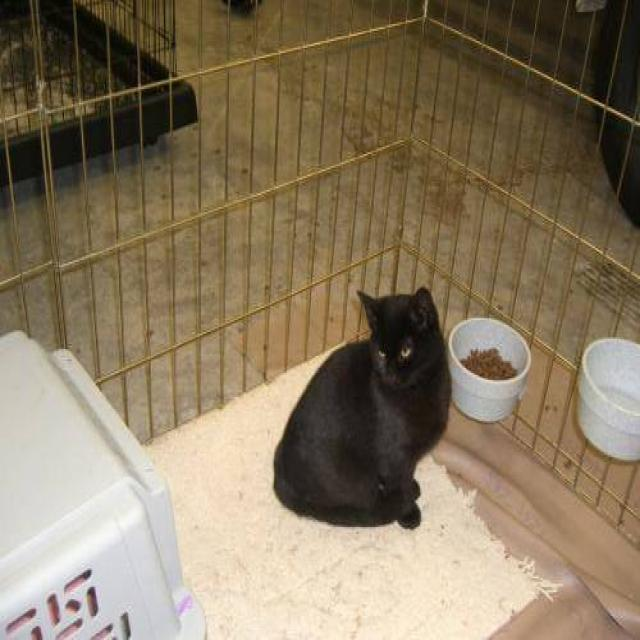cat: (271, 284, 452, 529)
